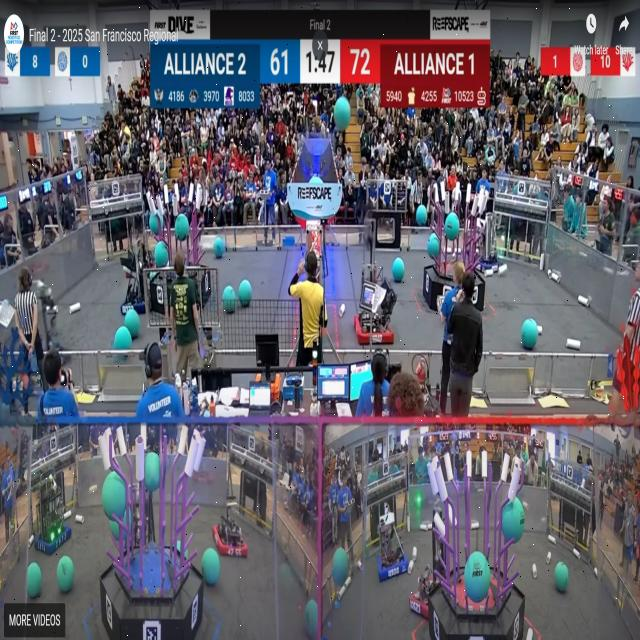Robot-YfA7: (354, 266, 398, 344), (35, 474, 64, 556), (121, 234, 147, 317), (379, 507, 407, 583), (213, 501, 249, 555), (410, 558, 438, 618), (480, 211, 499, 270)
